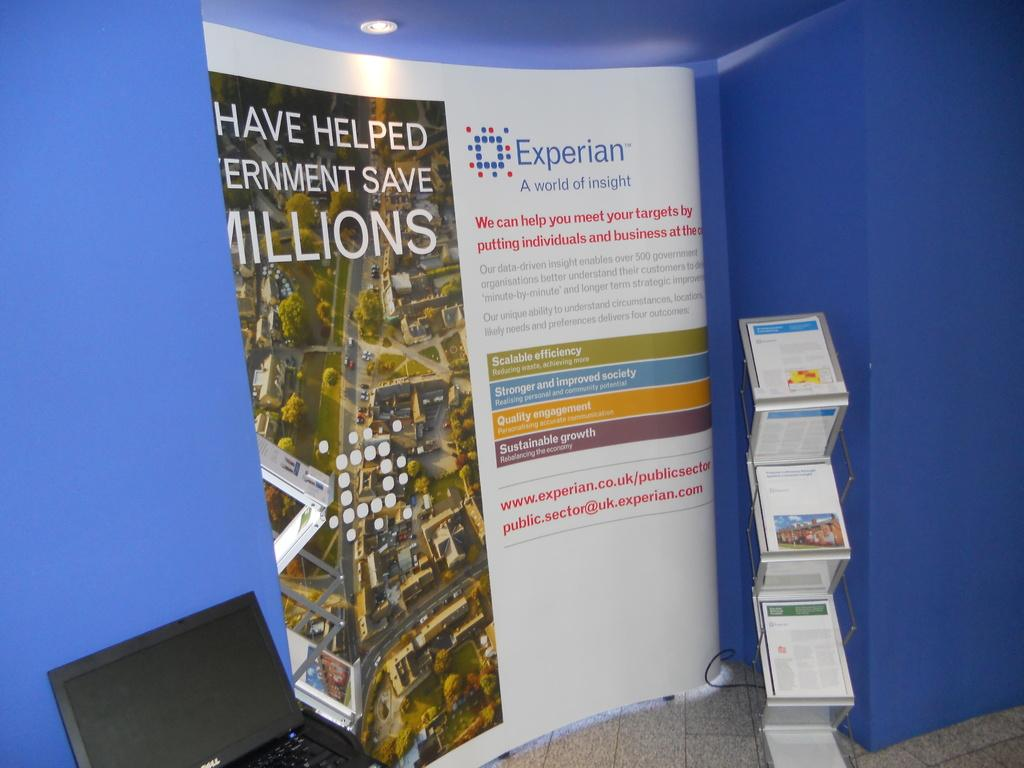Laptop: (49, 597, 307, 768)
